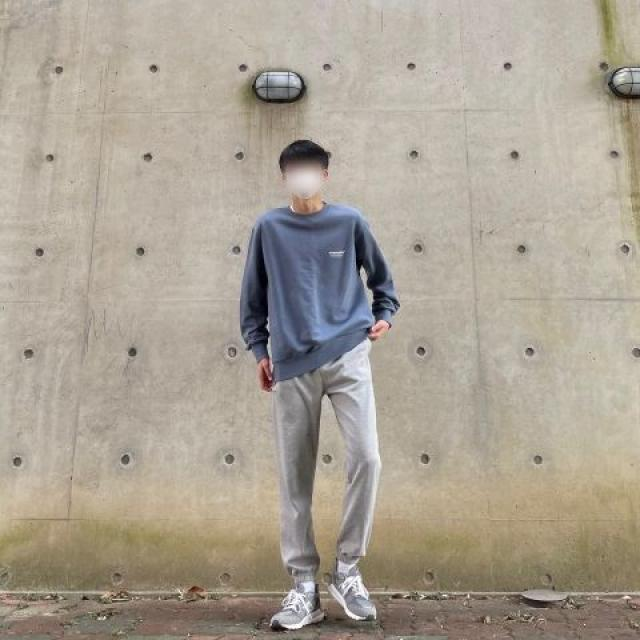mtm: (245, 201, 400, 383)
trainingpants: (270, 335, 377, 576)
